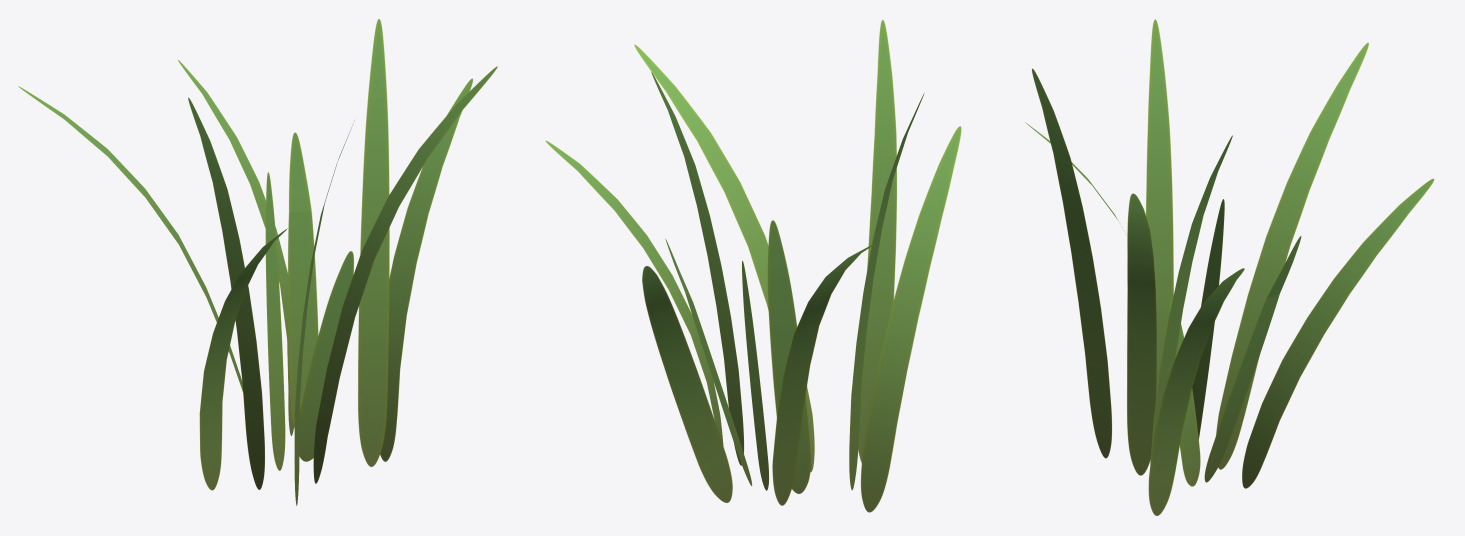
The model's file is stylized_grass_bush_small.glb.
3 renders of one model, left to right at view 1: azimuth 30°, elevation 25°; view 2: azimuth 150°, elevation 25°; view 3: azimuth 270°, elevation 25°, orthographic. The views are drawn at different scales.
Parts seen in each view (by area): view 1: Grass:Grass_low9_Grass:Grass_MAT_0.001, Grass:Grass_low7_Grass:Grass_MAT_0.001, Grass:Grass_low8_Grass:Grass_MAT_0.001, Grass:Grass_Master3_Grass:Grass_MAT_0.001, Grass:Grass_low11_Grass:Grass_MAT_0.001, Grass:Grass_low10_Grass:Grass_MAT_0.001, Grass:Grass_Master1_Grass:Grass_MAT_0.001, Grass:Grass_Master2_Grass:Grass_MAT_0.001, Grass:Grass_low13_Grass:Grass_MAT_0.001, Grass:Grass_low12_Grass:Grass_MAT_0.001, Grass:Grass_low6_Grass:Grass_MAT_0.001; view 2: Grass:Grass_low10_Grass:Grass_MAT_0.001, Grass:Grass_low6_Grass:Grass_MAT_0.001, Grass:Grass_low13_Grass:Grass_MAT_0.001, Grass:Grass_low12_Grass:Grass_MAT_0.001, Grass:Grass_low8_Grass:Grass_MAT_0.001, Grass:Grass_Master1_Grass:Grass_MAT_0.001, Grass:Grass_low9_Grass:Grass_MAT_0.001, Grass:Grass_low7_Grass:Grass_MAT_0.001, Grass:Grass_low11_Grass:Grass_MAT_0.001, Grass:Grass_Master2_Grass:Grass_MAT_0.001, Grass:Grass_Master3_Grass:Grass_MAT_0.001; view 3: Grass:Grass_low12_Grass:Grass_MAT_0.001, Grass:Grass_low13_Grass:Grass_MAT_0.001, Grass:Grass_low8_Grass:Grass_MAT_0.001, Grass:Grass_low6_Grass:Grass_MAT_0.001, Grass:Grass_low11_Grass:Grass_MAT_0.001, Grass:Grass_low7_Grass:Grass_MAT_0.001, Grass:Grass_Master3_Grass:Grass_MAT_0.001, Grass:Grass_low9_Grass:Grass_MAT_0.001, Grass:Grass_Master1_Grass:Grass_MAT_0.001, Grass:Grass_Master2_Grass:Grass_MAT_0.001.
Boxes of the visible parts, box(x1,y1,x2,y2) form: Grass:Grass_low9_Grass:Grass_MAT_0.001: box(358, 19, 389, 466); Grass:Grass_low7_Grass:Grass_MAT_0.001: box(380, 78, 472, 461); Grass:Grass_low8_Grass:Grass_MAT_0.001: box(313, 66, 497, 483); Grass:Grass_Master3_Grass:Grass_MAT_0.001: box(288, 132, 318, 428); Grass:Grass_low11_Grass:Grass_MAT_0.001: box(188, 97, 264, 489); Grass:Grass_low10_Grass:Grass_MAT_0.001: box(199, 228, 287, 490); Grass:Grass_Master1_Grass:Grass_MAT_0.001: box(265, 172, 285, 470); Grass:Grass_Master2_Grass:Grass_MAT_0.001: box(299, 251, 353, 461); Grass:Grass_low13_Grass:Grass_MAT_0.001: box(178, 60, 293, 435); Grass:Grass_low12_Grass:Grass_MAT_0.001: box(18, 86, 243, 392); Grass:Grass_low6_Grass:Grass_MAT_0.001: box(294, 120, 354, 505); Grass:Grass_low10_Grass:Grass_MAT_0.001: box(861, 126, 961, 512); Grass:Grass_low6_Grass:Grass_MAT_0.001: box(858, 20, 896, 462); Grass:Grass_low13_Grass:Grass_MAT_0.001: box(642, 266, 732, 502); Grass:Grass_low12_Grass:Grass_MAT_0.001: box(772, 243, 875, 505); Grass:Grass_low8_Grass:Grass_MAT_0.001: box(634, 44, 814, 472); Grass:Grass_Master1_Grass:Grass_MAT_0.001: box(767, 220, 810, 493); Grass:Grass_low9_Grass:Grass_MAT_0.001: box(651, 72, 743, 465); Grass:Grass_low7_Grass:Grass_MAT_0.001: box(545, 140, 723, 445); Grass:Grass_low11_Grass:Grass_MAT_0.001: box(849, 93, 924, 490); Grass:Grass_Master2_Grass:Grass_MAT_0.001: box(742, 261, 768, 490); Grass:Grass_Master3_Grass:Grass_MAT_0.001: box(665, 239, 752, 485); Grass:Grass_low12_Grass:Grass_MAT_0.001: box(1216, 42, 1368, 469); Grass:Grass_low13_Grass:Grass_MAT_0.001: box(1242, 178, 1434, 488); Grass:Grass_low8_Grass:Grass_MAT_0.001: box(1127, 193, 1156, 475); Grass:Grass_low6_Grass:Grass_MAT_0.001: box(1032, 68, 1111, 458); Grass:Grass_low11_Grass:Grass_MAT_0.001: box(1146, 19, 1173, 398); Grass:Grass_low7_Grass:Grass_MAT_0.001: box(1148, 268, 1244, 515); Grass:Grass_Master3_Grass:Grass_MAT_0.001: box(1204, 236, 1301, 482); Grass:Grass_low9_Grass:Grass_MAT_0.001: box(1150, 135, 1232, 465); Grass:Grass_Master1_Grass:Grass_MAT_0.001: box(1192, 199, 1224, 439); Grass:Grass_Master2_Grass:Grass_MAT_0.001: box(1170, 297, 1200, 486).
Bounding box in the file's own units: 0.3437 × 0.338 × 0.3231.
2 materials, 2 textured.
